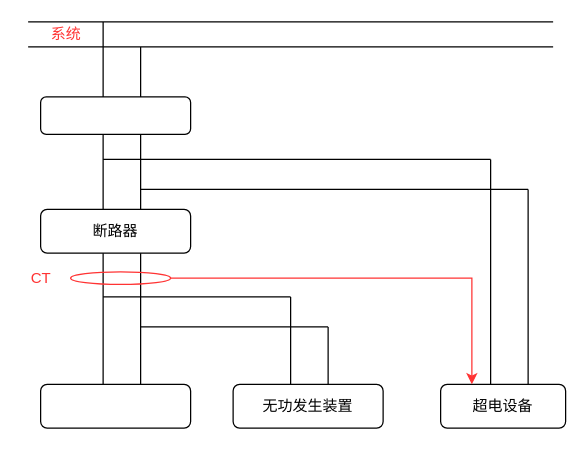
Image size: 588x450. Some labels were removed from this diagram. Here are the shapes that lost their labels. From the top down, the centre of each, then its label:
At point 115,115: "调压器".
At point 115,405: "电阻箱".
